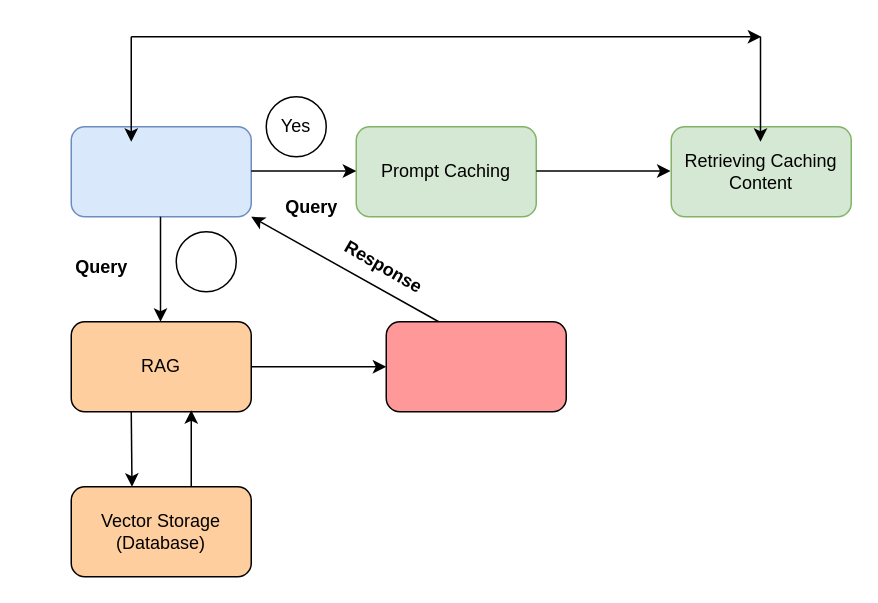
The diagram is 878 pixels wide and 603 high, and some of its shapes have lost their labels. Here are the shapes that lost their labels. From the top down, the centre of each, then its label:
At point 160,171: "User".
At point 205,261: "No".
At point 475,366: "LLM API".
